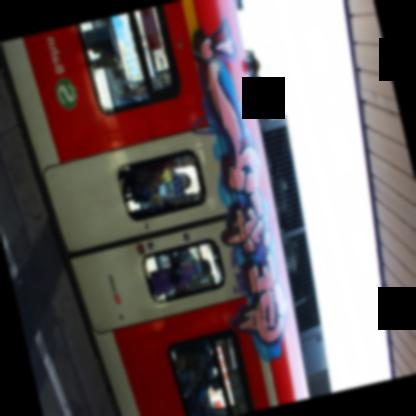handbag: (170, 260, 192, 284), (150, 194, 166, 211), (185, 368, 195, 388)
